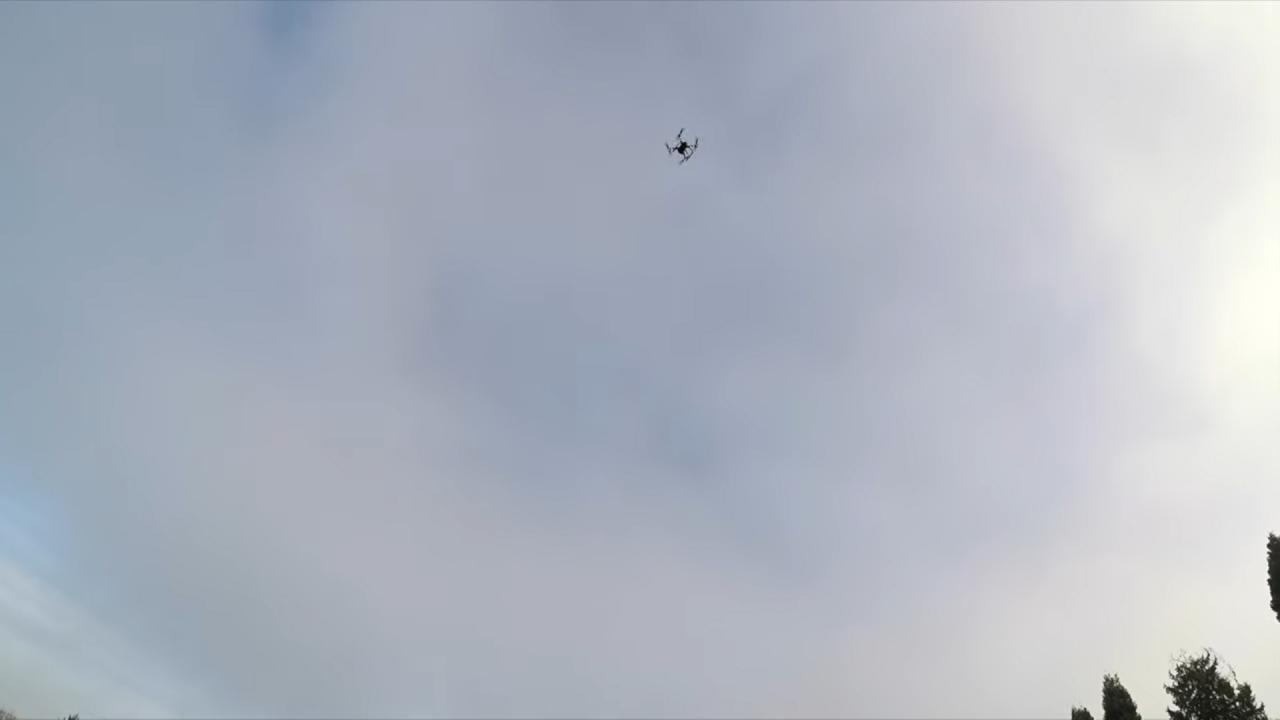Drone: (657, 121, 709, 172)
